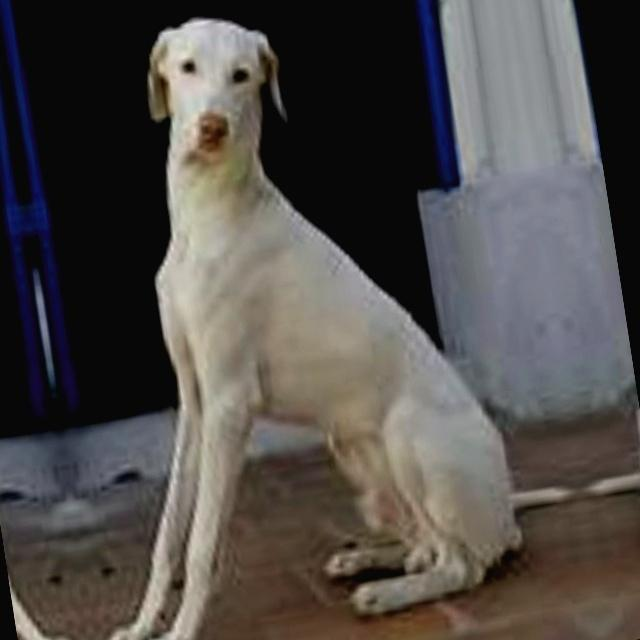dog: (17, 0, 574, 640), (524, 0, 640, 640), (0, 26, 82, 640)
